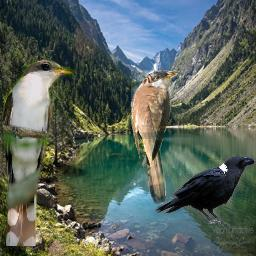Crow: (155, 156, 256, 229)
Cuckoo: (1, 58, 77, 246), (131, 70, 179, 204)
